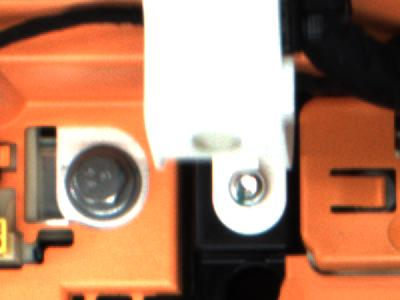nut_b: (63, 141, 145, 225)
